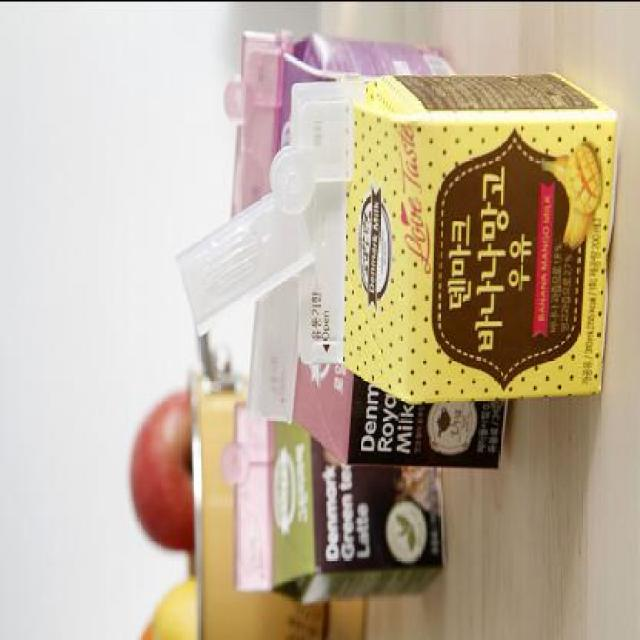non_white_jug: (294, 41, 626, 407)
